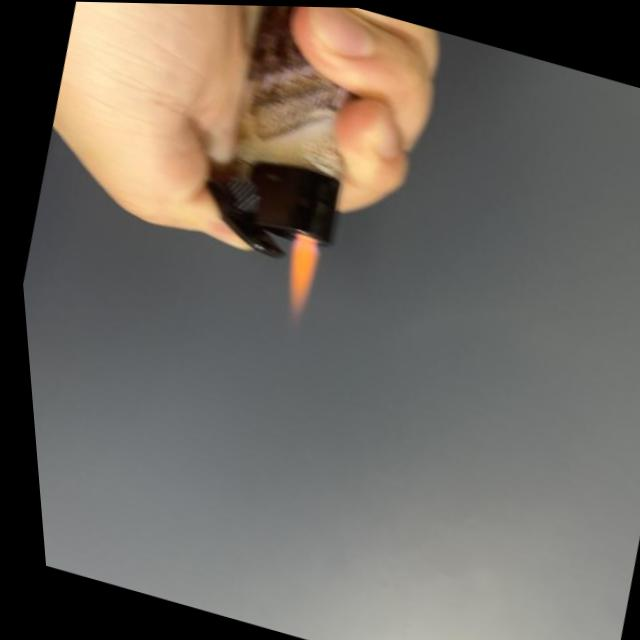Fire: (264, 232, 322, 317)
